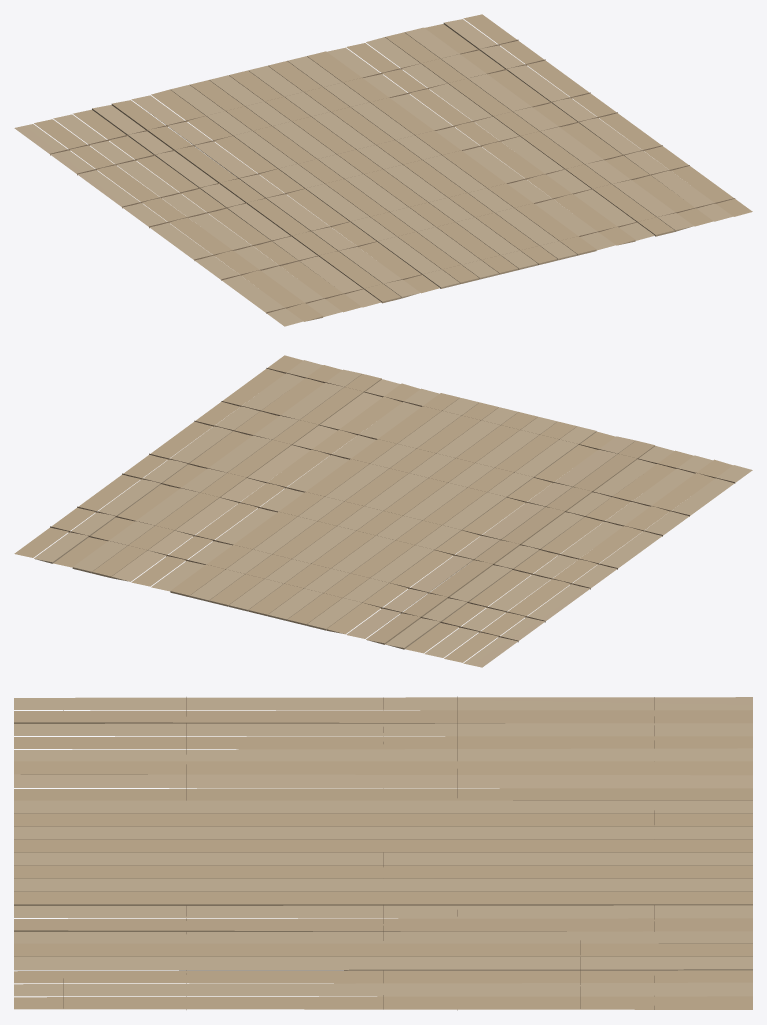
File: home_floor_boards__oak_low.glb
3 views of the same model, one above another, from view 1: azimuth 30°, elevation 25°; view 2: azimuth 150°, elevation 25°; view 3: azimuth 270°, elevation 25° (orthographic). The views are drawn at different scales.
Size of the model in its own units: 12 by 0.0419 by 12.
